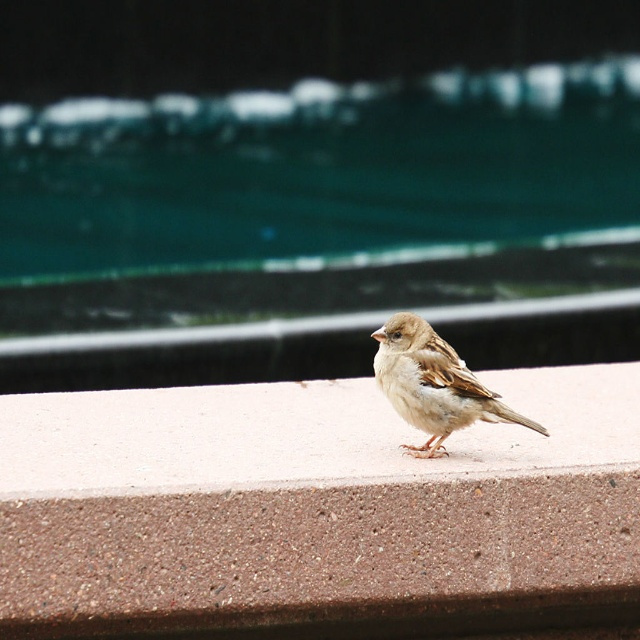Sparrow: (370, 310, 547, 455)
